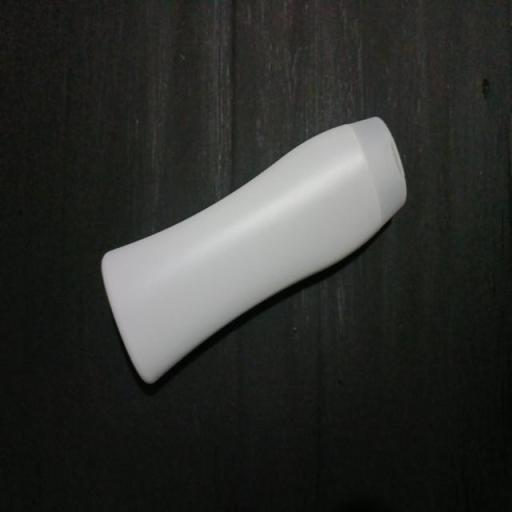plastic: (85, 89, 426, 403)
